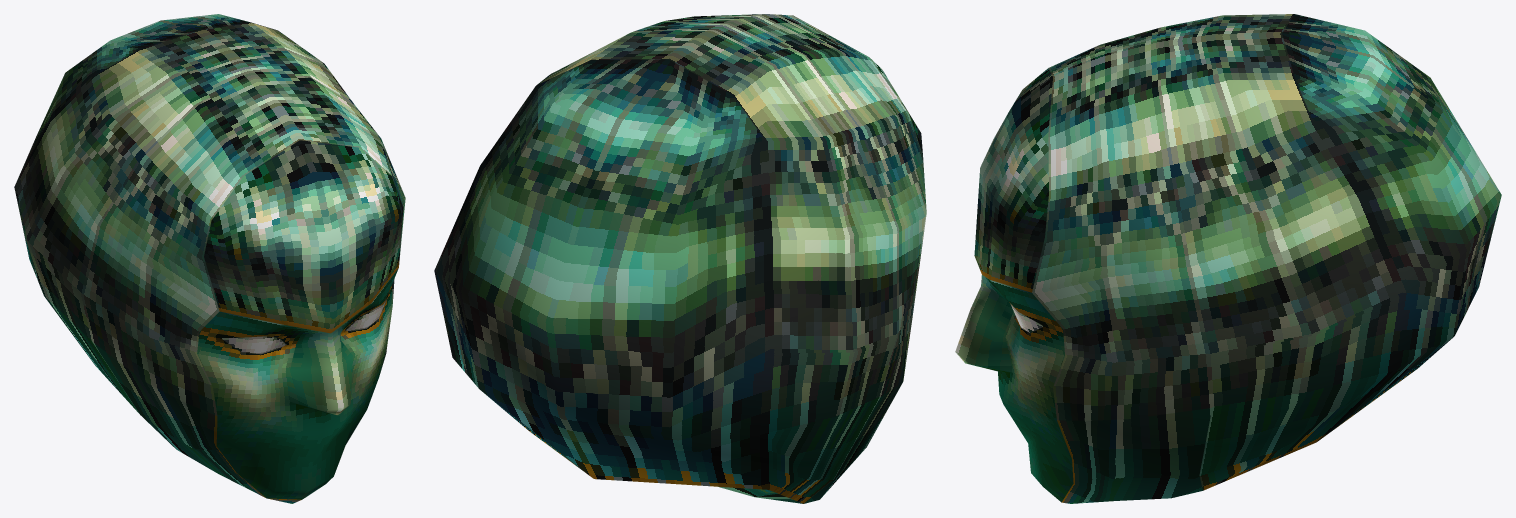
Rendered from m_hair253.glb.
3 renders of one model, left to right at view 1: azimuth 30°, elevation 25°; view 2: azimuth 150°, elevation 25°; view 3: azimuth 270°, elevation 25°, orthographic. The views are drawn at different scales.
Size of the model in its own units: 18.62 by 22.68 by 23.9.
1 material, 1 textured.
